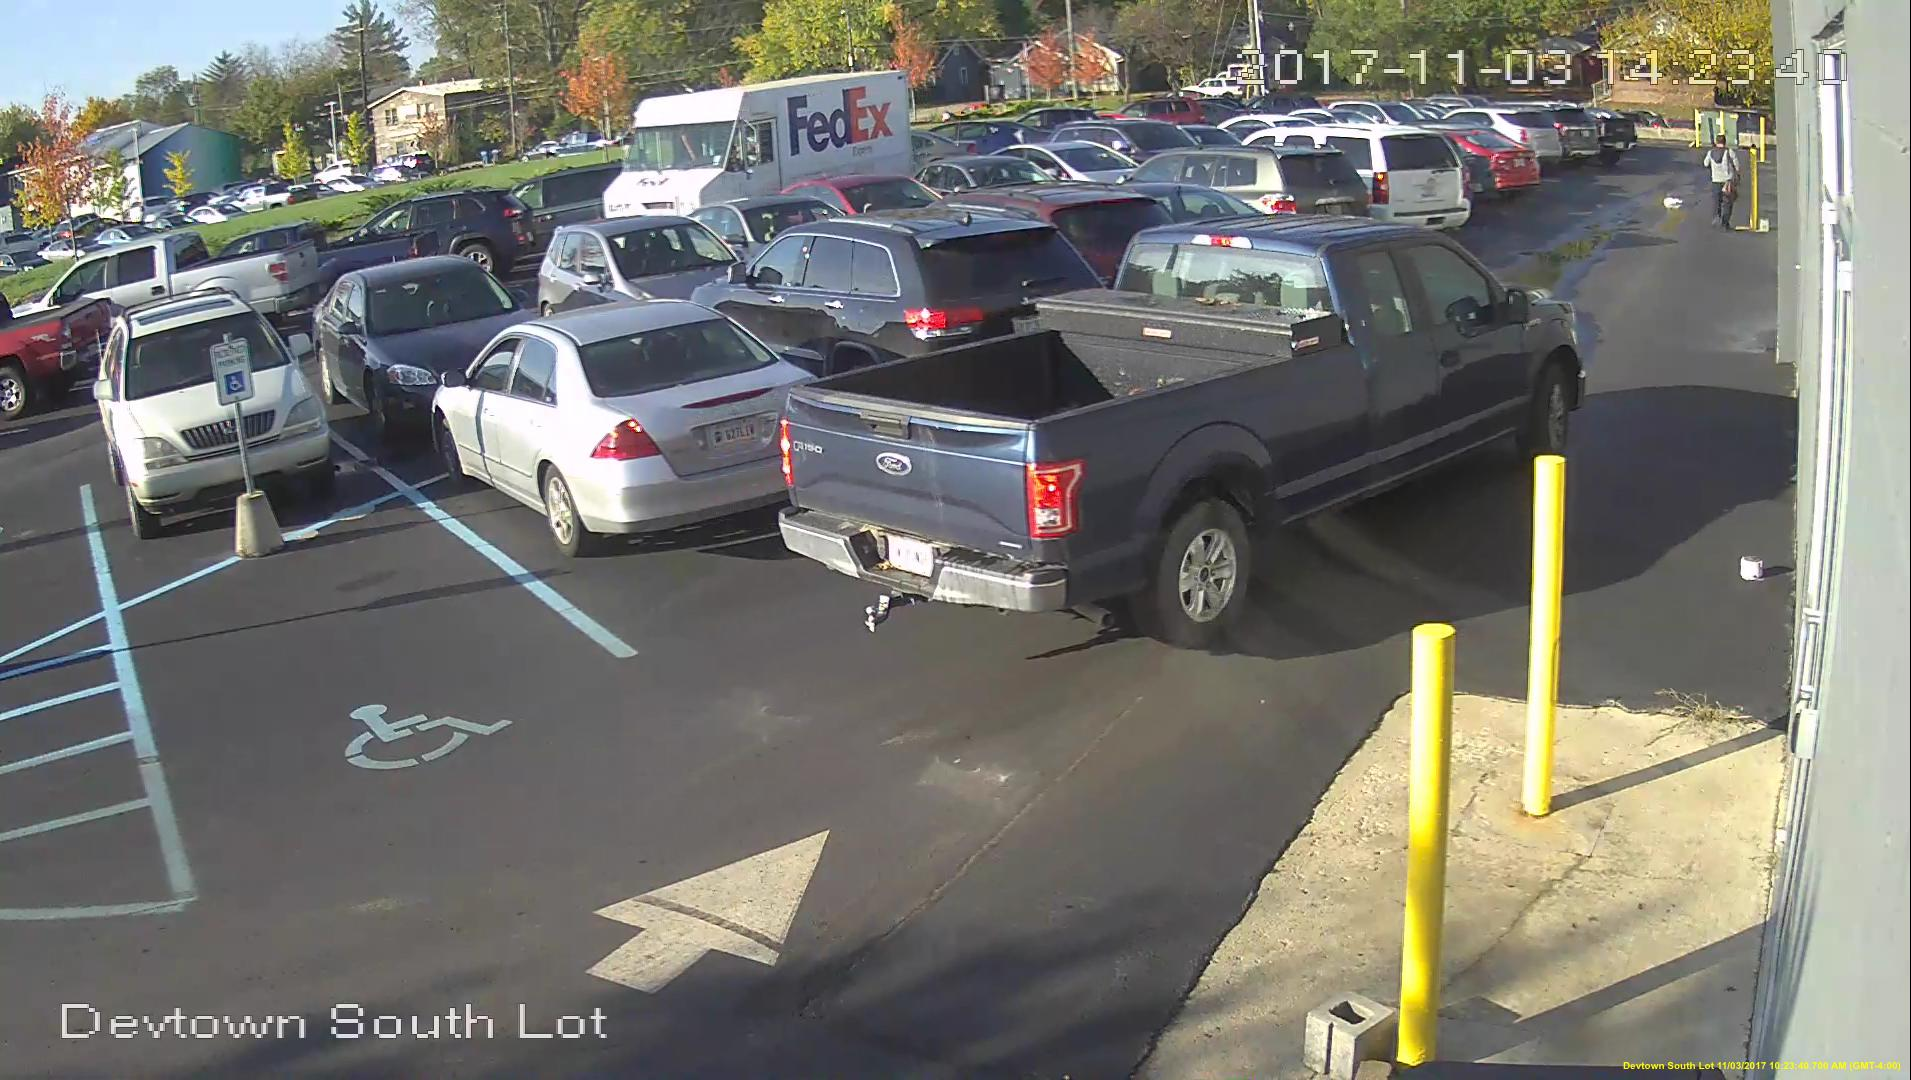fedex_truck: (598, 62, 916, 220)
